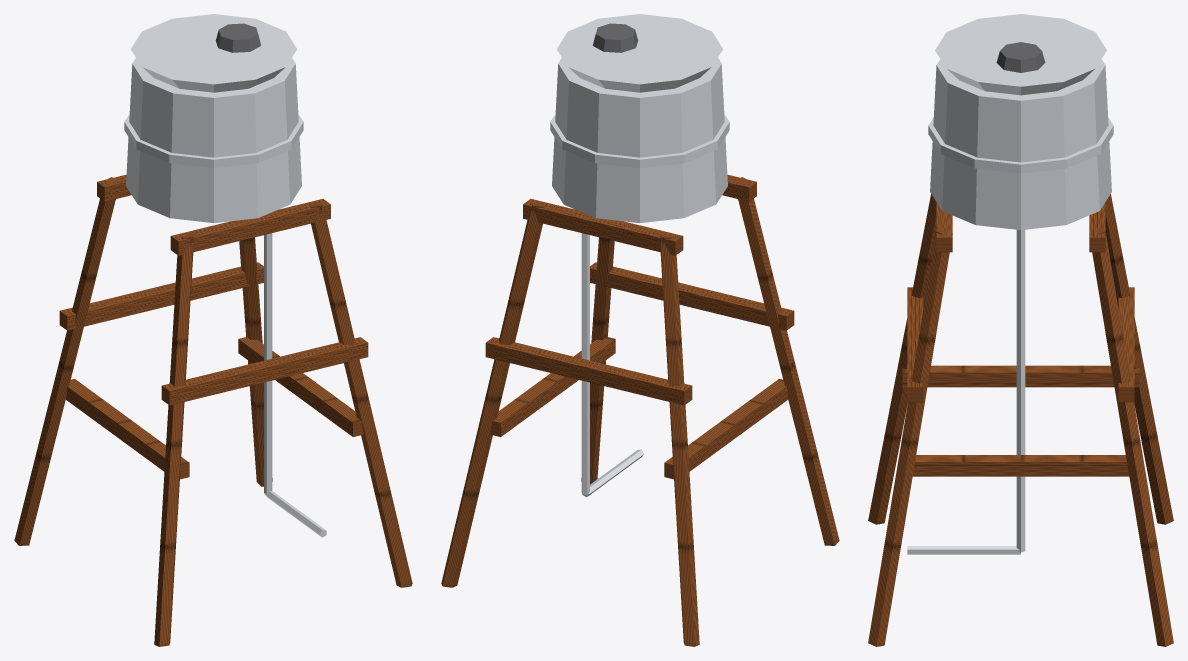
Rendered from safari-camp-and-bush-lodge-header-tank-on-stand-186c38d0__37695.glb.
The picture shows the model from 3 angles, left to right: view 1: azimuth 30°, elevation 25°; view 2: azimuth 150°, elevation 25°; view 3: azimuth 270°, elevation 25°; orthographic projection. The views are drawn at different scales.
Visible parts, largest first — view 1: header-tank-on-stand-timber, header-tank-on-stand-steel, header-tank-on-stand-charcoal; view 2: header-tank-on-stand-timber, header-tank-on-stand-steel, header-tank-on-stand-charcoal; view 3: header-tank-on-stand-steel, header-tank-on-stand-timber, header-tank-on-stand-charcoal.
Boxes of the visible parts, x1,y1,x2,y2 form: header-tank-on-stand-timber: [14, 174, 412, 646]; header-tank-on-stand-steel: [124, 14, 326, 537]; header-tank-on-stand-charcoal: [215, 23, 261, 52]; header-tank-on-stand-timber: [441, 174, 839, 646]; header-tank-on-stand-steel: [550, 14, 729, 497]; header-tank-on-stand-charcoal: [592, 23, 638, 52]; header-tank-on-stand-steel: [907, 14, 1113, 554]; header-tank-on-stand-timber: [868, 194, 1173, 646]; header-tank-on-stand-charcoal: [996, 42, 1045, 72].
Size of the model in its own units: 1.88 by 3.7 by 1.88.
3 materials, 1 textured.
